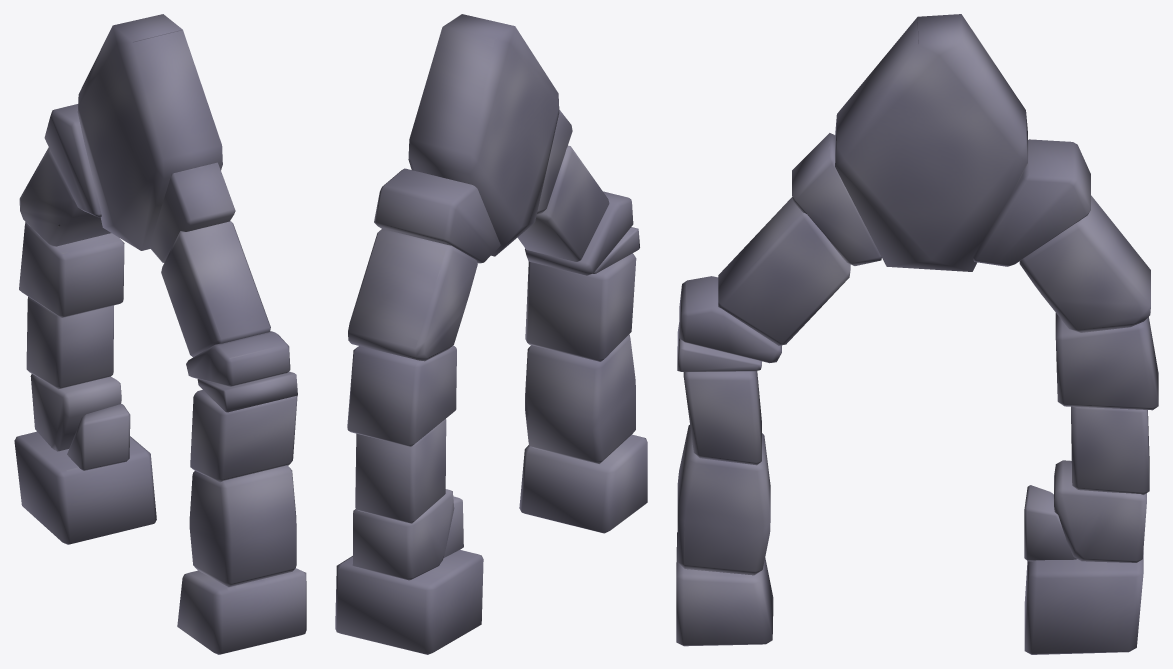
The model's file is portal.gltf.
The picture shows the model from 3 angles, left to right: view 1: azimuth 30°, elevation 25°; view 2: azimuth 150°, elevation 25°; view 3: azimuth 270°, elevation 25°; orthographic projection. The views are drawn at different scales.
Visible parts, largest first — view 1: Cube.012; view 2: Cube.012; view 3: Cube.012.
Part boxes in pixels (x1,y1,x2,y2): Cube.012: (14, 14, 306, 654); Cube.012: (335, 14, 647, 654); Cube.012: (676, 14, 1158, 654).
Bounding box in the file's own units: 0.8427 × 4.27 × 3.1.
1 material, 1 textured.
